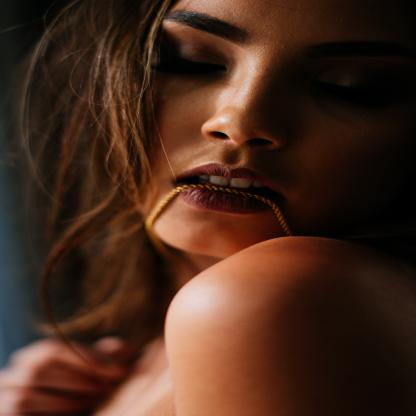Eye: (305, 64, 410, 112), (157, 44, 227, 79)
Mouth: (169, 163, 292, 214)
Nose: (200, 72, 288, 152)
